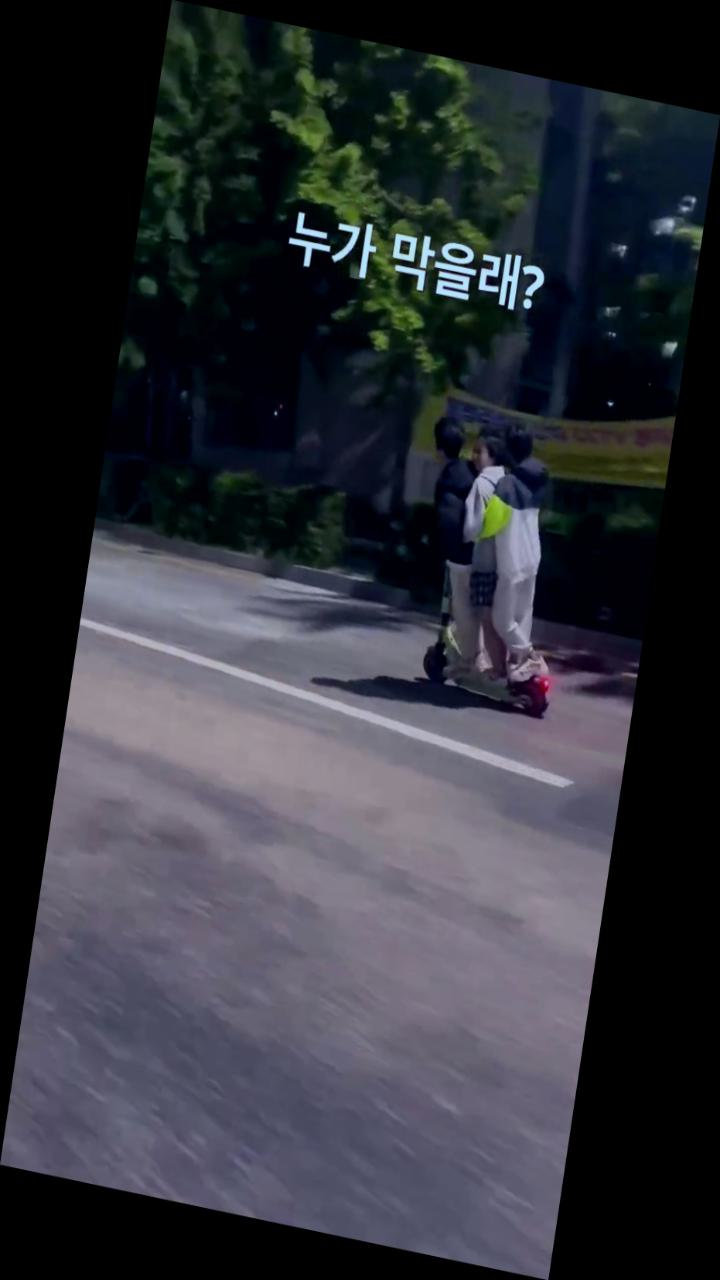multiple: (389, 404, 592, 721)
